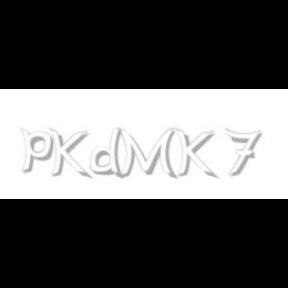7: (226, 128, 262, 178)
K: (49, 128, 89, 180), (175, 128, 215, 180)
M: (116, 128, 176, 180)
d: (90, 128, 128, 180)
p: (20, 128, 57, 174)
